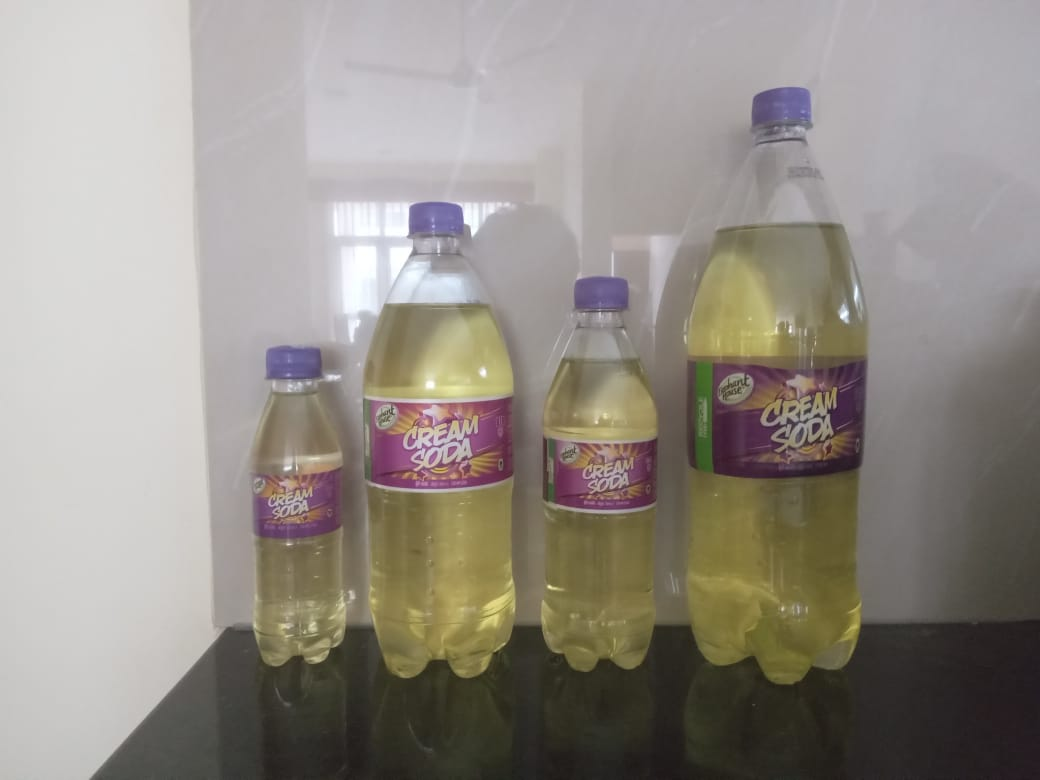L: (681, 84, 872, 690)
M: (357, 198, 517, 692)
S: (533, 274, 663, 681)
Xs: (241, 345, 356, 676)
